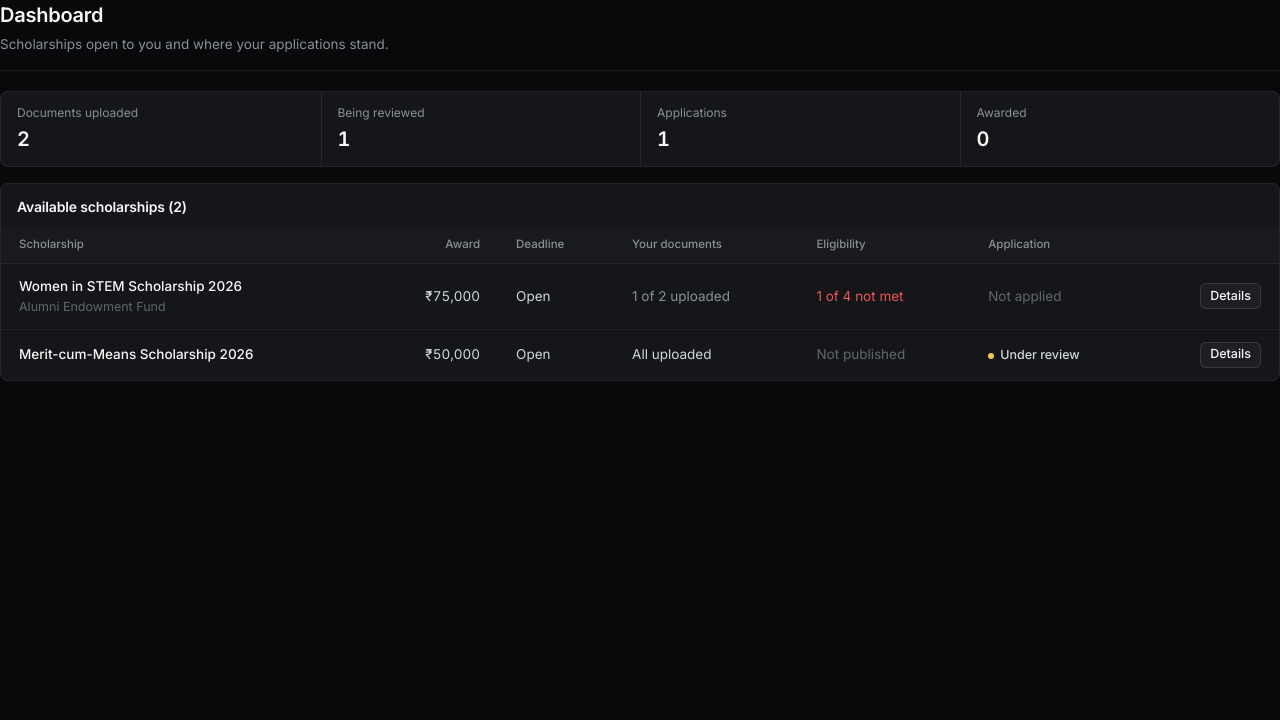
student dashboard › closes with Escape or the close button, and links to an existing application instead of Apply
Step 1. Click the button with aria-label "Details for Merit-cum-Means Scholarship 2026" → (1231, 354), box x1=1200 y1=342 x2=1261 y2=368
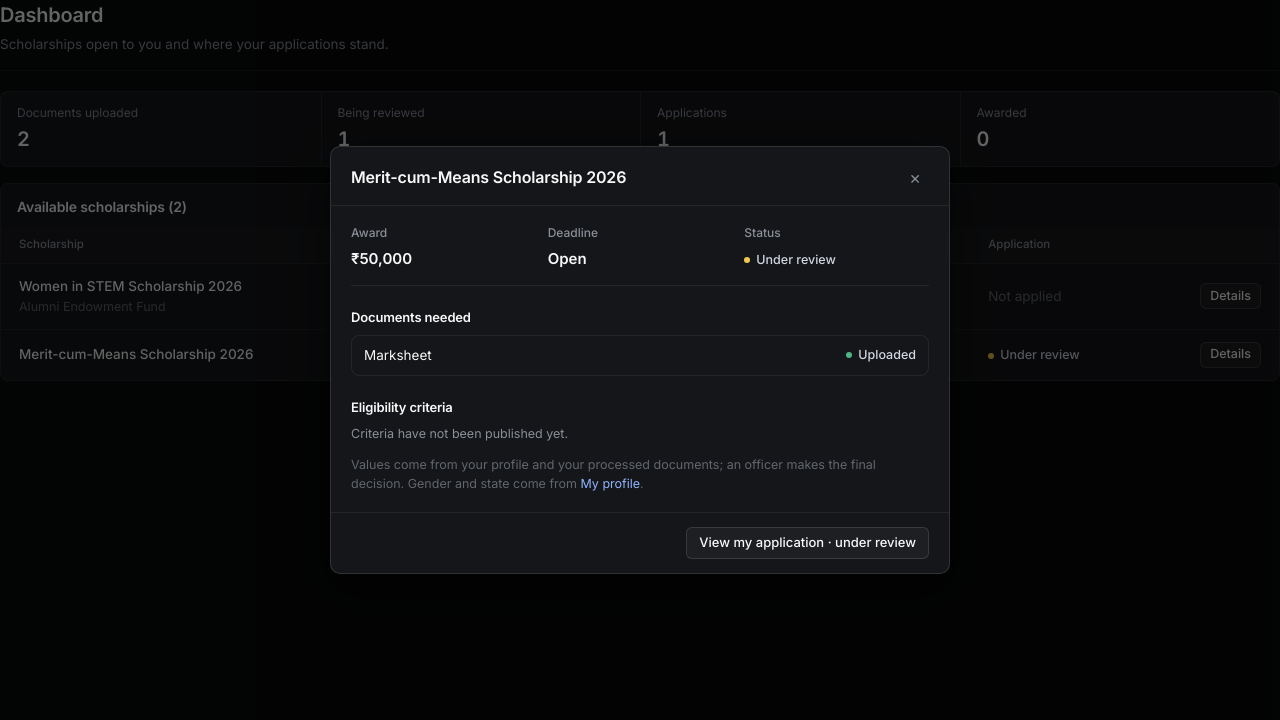
Result: the text "Criteria have not been published yet." is shown at x1=351 y1=426 x2=568 y2=441
Step 2. Press Escape
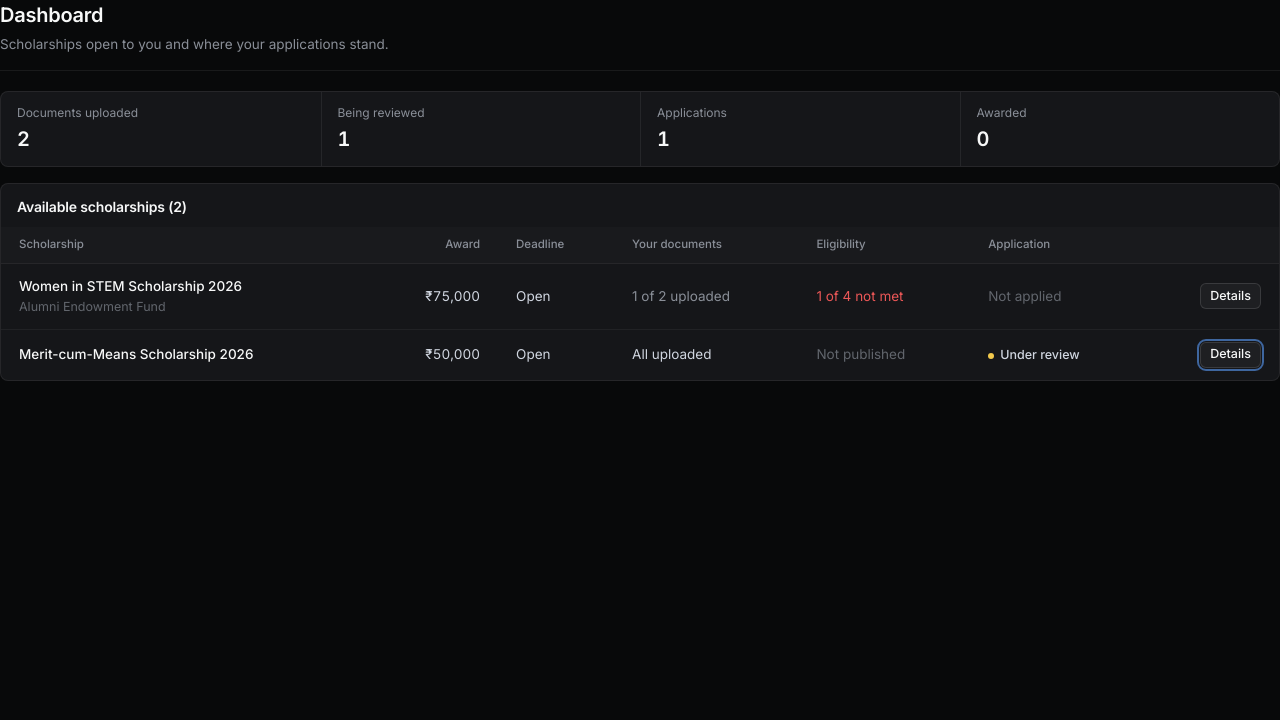
Result: the dialog is gone
Step 3. Click the row "Merit-cum-Means Scholarship 2026" → (640, 354), box x1=1 y1=329 x2=1279 y2=380
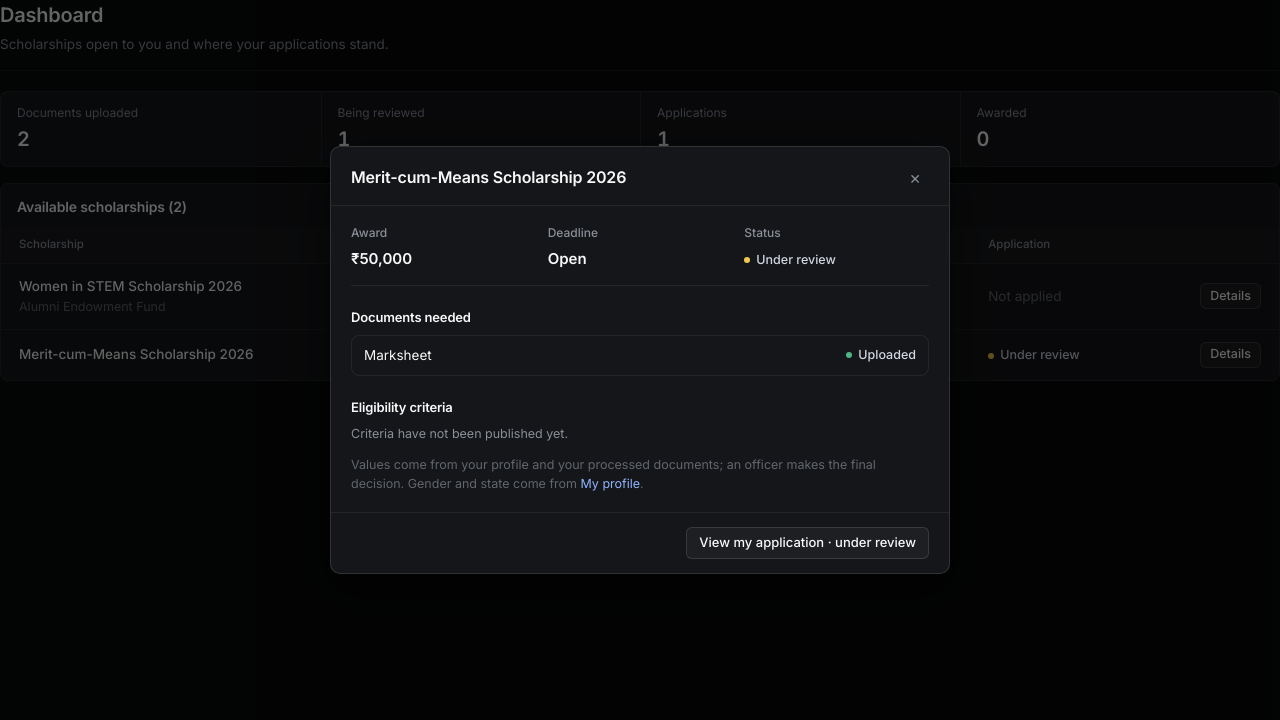
Step 4. Click the button named "Close" → (915, 178), box x1=901 y1=165 x2=929 y2=191
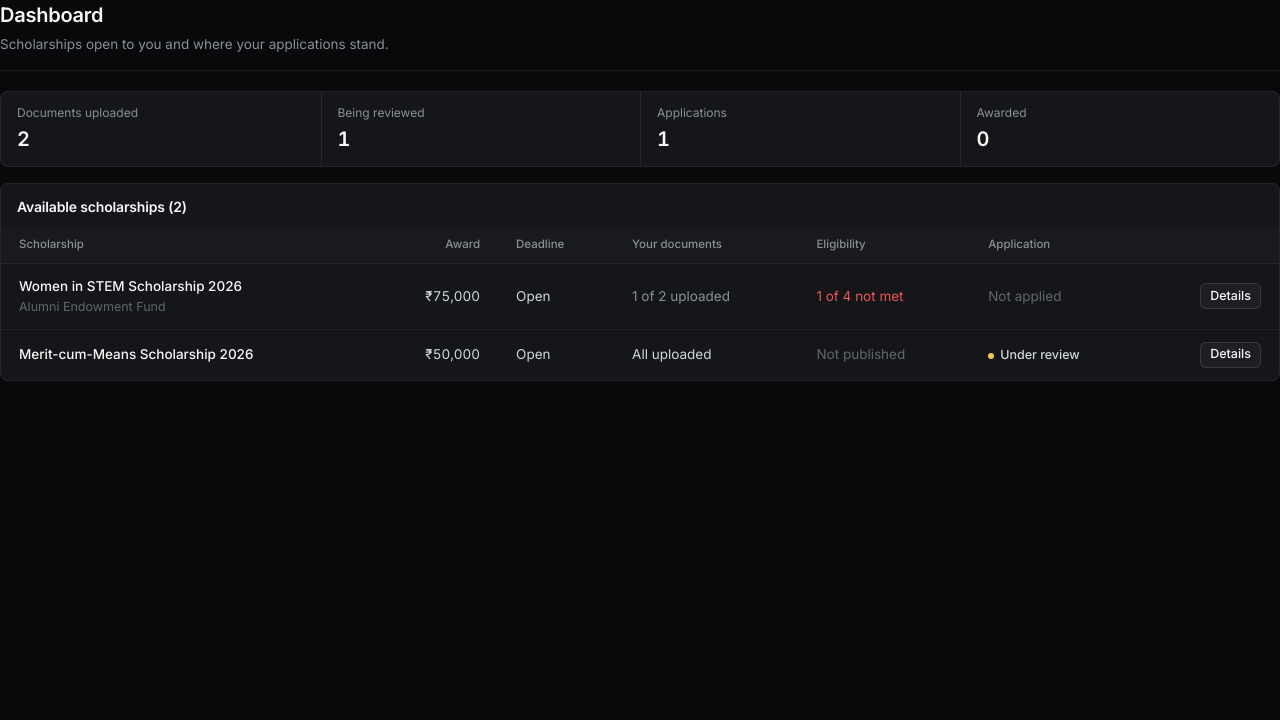
Result: the dialog is gone
